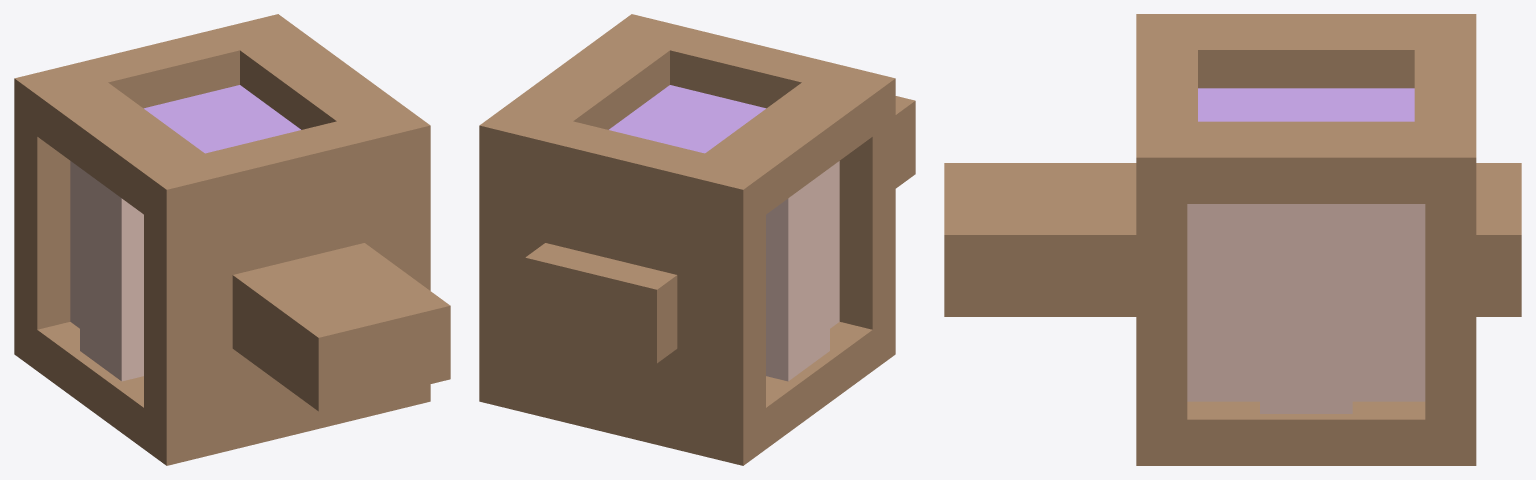
Rendered from practice.fbx.
3 views of the same model, side by side, from view 1: azimuth 30°, elevation 25°; view 2: azimuth 150°, elevation 25°; view 3: azimuth 270°, elevation 25° (orthographic). The views are drawn at different scales.
Parts seen in each view (by area): view 1: Cube; view 2: Cube; view 3: Cube.
Boxes of the visible parts, x1,y1,x2,y2 form: Cube: (14,14,450,465); Cube: (479,14,915,465); Cube: (944,14,1521,465).
Bounding box in the file's own units: 339 × 200 × 200.
Materials: 1 (1 with a texture image).
